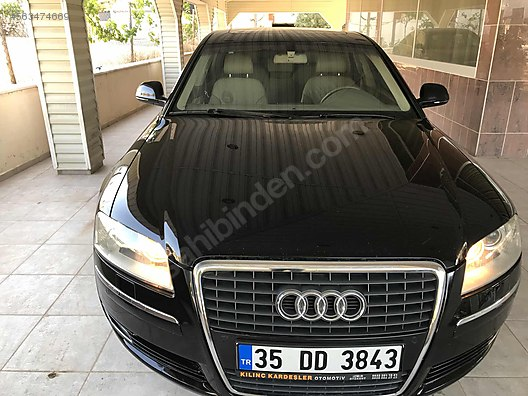audi: (269, 285, 370, 328)
